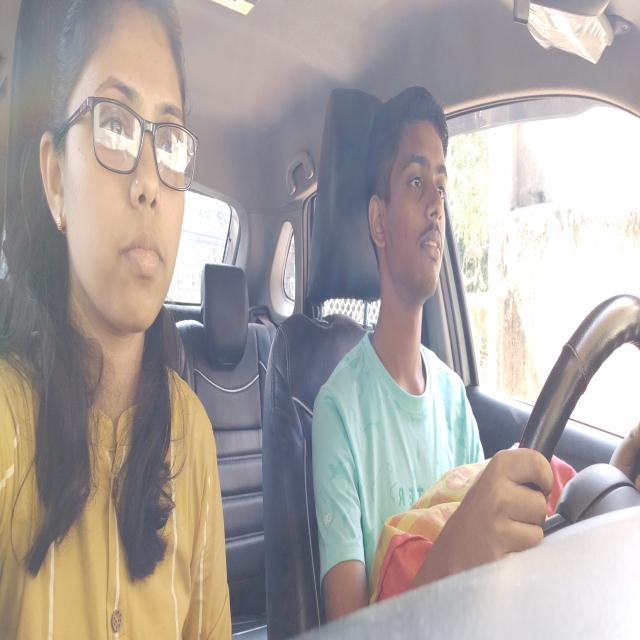person: (36, 10, 195, 340), (367, 99, 450, 307)
